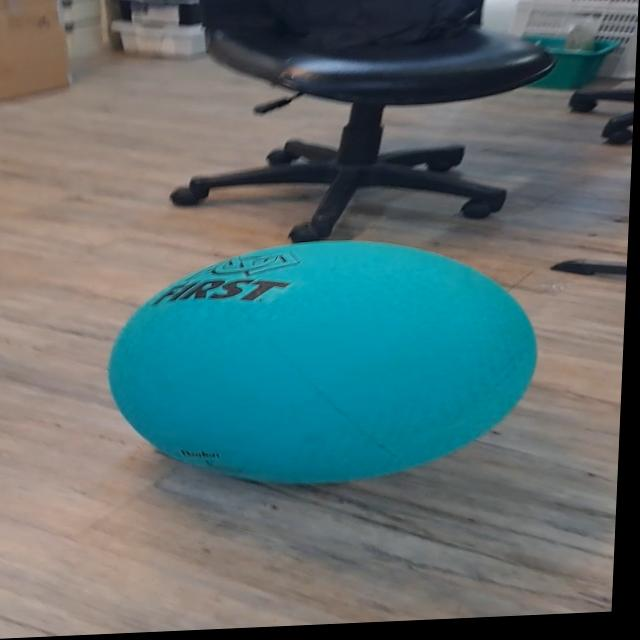ALGAE: (99, 228, 544, 496)
